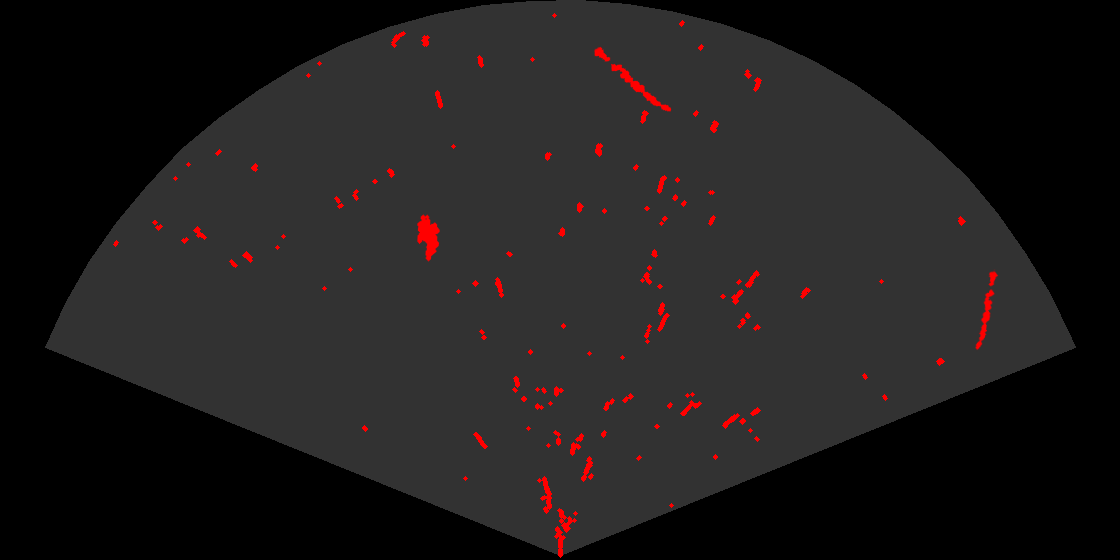AUV: (416, 213, 441, 263)
chain: (593, 45, 673, 113), (974, 269, 1000, 352)
